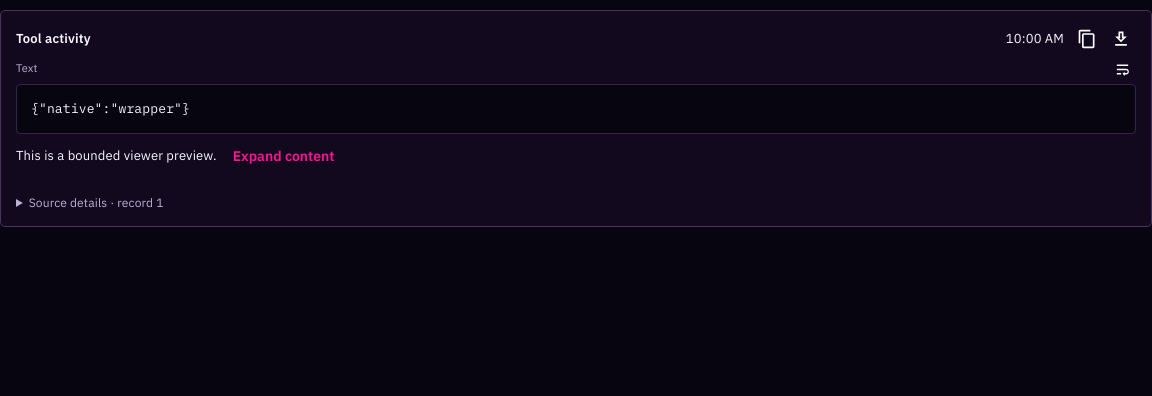
Scenario: readable original evidence › keeps offset fragments faithful instead of interpreting standalone JSON
Click the button "Expand content" at [284, 156], box [217,134,351,179]
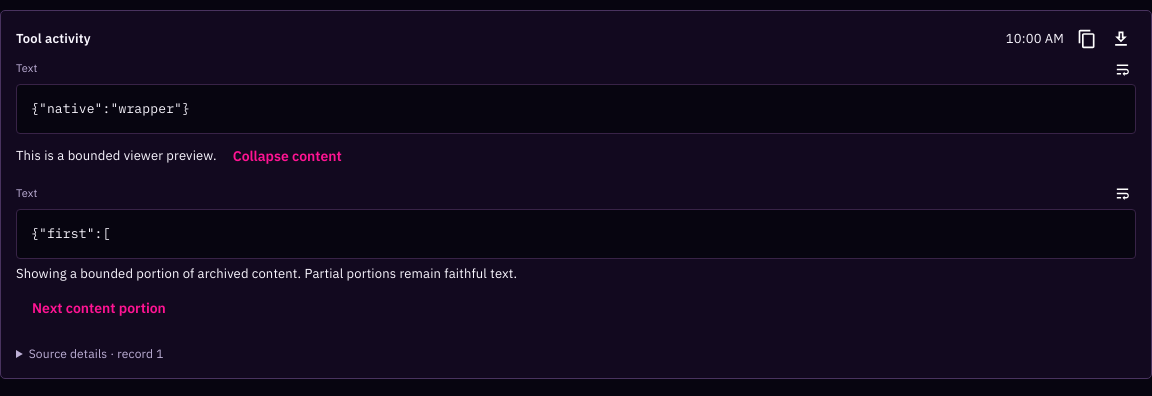
Click the button "Next content portion" at [99, 308], box [16,286,182,330]
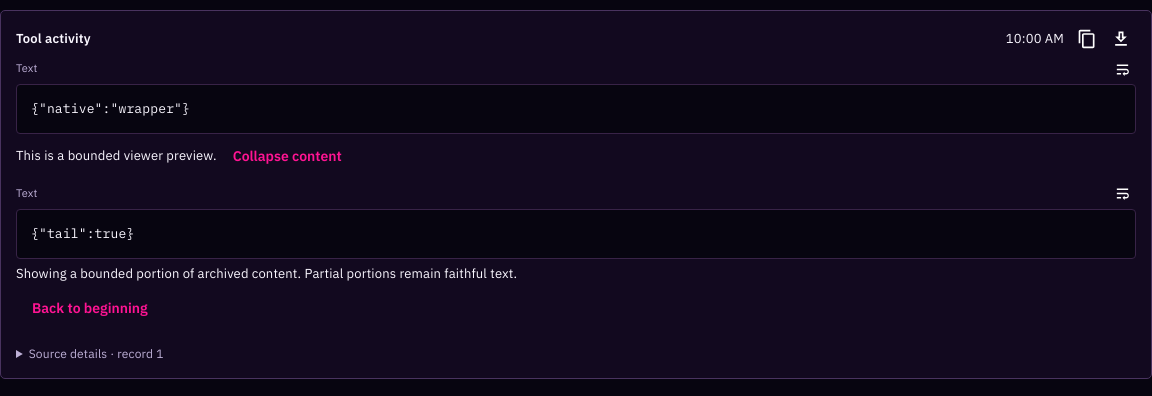
Expected: the text "{\"tail\":true}" is shown, [31,225,134,242]
Expected: the button "Back to beginning" is shown, [16,286,164,330]
